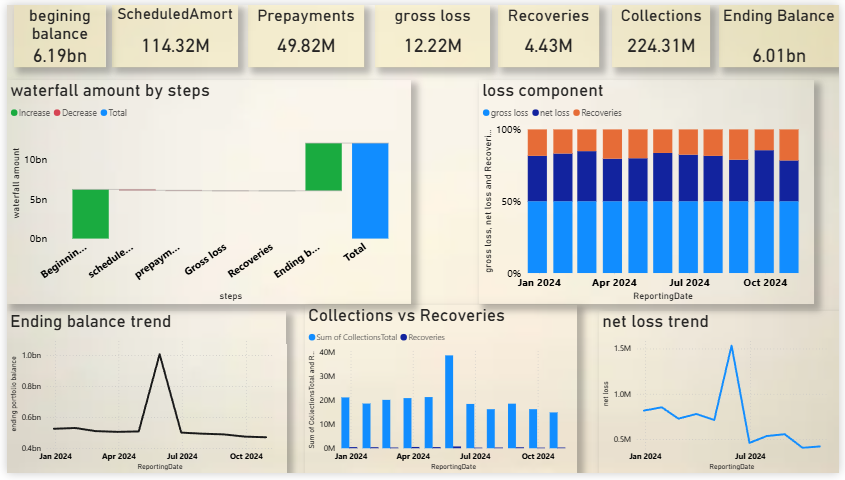

What the dashboard file says about the page in this screenshot:
{"tool":"powerbi","page":{"name":"waterfall analysis","canvas":[1280,720],"ordinal":7},"visuals":[{"type":"kpi","title":"begining balance ","fields":{"Indicator":["dynamicloss.begining portfolio balance"],"TrendLine":["loans.LoanID"]},"box":[10.1,0,141.1,96.5],"z":0},{"type":"kpi","title":"Collections","fields":{"Indicator":["Sum(dynamicloss.CollectionsTotal)"],"TrendLine":["loans.LoanID"]},"box":[930.2,0,151.2,96.5],"z":1000},{"type":"kpi","title":"gross loss ","fields":{"Indicator":["dynamicloss.gross loss"],"TrendLine":["loans.LoanID"]},"box":[565.9,0,177.1,96.5],"z":2000},{"type":"kpi","title":"Recoveries","fields":{"Indicator":["dynamicloss.Recoveries"],"TrendLine":["loans.LoanID"]},"box":[756,0,155.5,96.5],"z":3000},{"type":"kpi","title":"Ending Balance ","fields":{"Indicator":["Sum(dynamicloss.EOP_Balance)"],"TrendLine":["loans.LoanID"]},"box":[1095.8,0,184.3,96.5],"z":4000},{"type":"kpi","title":"Prepayments","fields":{"Indicator":["Sum(dynamicloss.Prepayments_ThisMonth)"],"TrendLine":["loans.PoolID"]},"box":[370.1,0,178.6,96.5],"z":5000},{"type":"waterfallChart","title":"waterfall amount  by steps","fields":{"Category":["waterfall steps.steps"],"Y":["waterfall steps.waterfall amount"]},"box":[0,115.6,621.9,345.3],"z":6000},{"type":"kpi","title":"ScheduledAmort ","fields":{"Indicator":["Sum(dynamicloss.ScheduledAmort)"],"TrendLine":["loans.LoanID"]},"box":[161.3,0,194.4,96.5],"z":7000},{"type":"lineChart","title":"Ending balance trend","fields":{"Category":["dynamicloss.ReportingDate"],"Y":["dynamicloss.ending portfolio balance"]},"box":[0,470.3,429.7,250],"z":8000},{"type":"clusteredColumnChart","title":" Collections vs Recoveries","fields":{"Category":["dynamicloss.ReportingDate"],"Y":["Sum(dynamicloss.CollectionsTotal)","dynamicloss.Recoveries"]},"box":[457.8,460.9,418.8,259.4],"z":9000},{"type":"lineChart","title":"net loss trend","fields":{"Category":["dynamicloss.ReportingDate"],"Y":["dynamicloss.net loss"]},"box":[910.9,470.3,368.8,250],"z":10000},{"type":"hundredPercentStackedColumnChart","title":"loss component","fields":{"Category":["dynamicloss.ReportingDate"],"Y":["dynamicloss.gross loss","dynamicloss.net loss","dynamicloss.Recoveries"]},"box":[726.6,115.6,515.6,345.3],"z":11000}]}

Visuals, with their boxes in screenshot pixels (x1, y1, x2, y2), scaled from the page's 1280x720 canvas onto the 845x480 screenshot:
"begining balance " kpi: crop(7, 0, 100, 64)
"Collections" kpi: crop(614, 0, 714, 64)
"gross loss " kpi: crop(374, 0, 490, 64)
"Recoveries" kpi: crop(499, 0, 602, 64)
"Ending Balance " kpi: crop(723, 0, 844, 64)
"Prepayments" kpi: crop(244, 0, 362, 64)
"waterfall amount  by steps" waterfallChart: crop(0, 77, 411, 307)
"ScheduledAmort " kpi: crop(106, 0, 235, 64)
"Ending balance trend" lineChart: crop(0, 314, 284, 479)
" Collections vs Recoveries" clusteredColumnChart: crop(302, 307, 579, 479)
"net loss trend" lineChart: crop(601, 314, 844, 479)
"loss component" hundredPercentStackedColumnChart: crop(480, 77, 820, 307)
